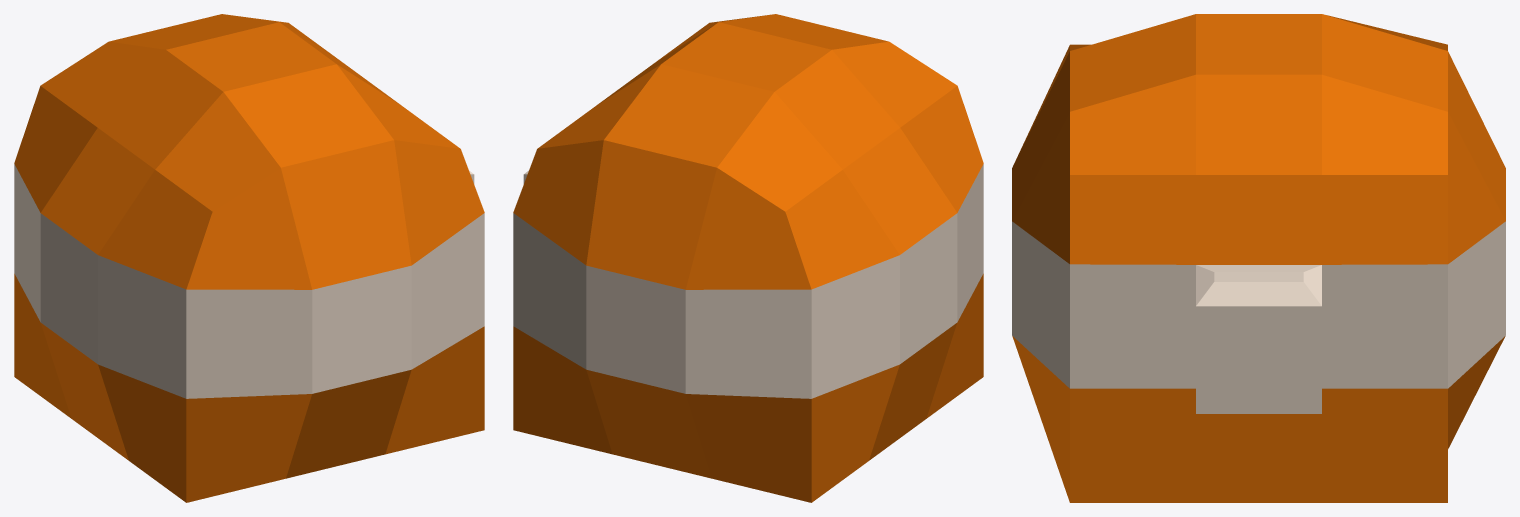
The model's file is сундук.fbx.
3 views of the same model, side by side, from view 1: azimuth 30°, elevation 25°; view 2: azimuth 150°, elevation 25°; view 3: azimuth 270°, elevation 25° (orthographic). The views are drawn at different scales.
Parts seen in each view (by area): view 1: Cube.021; view 2: Cube.021; view 3: Cube.021.
Boxes of the visible parts, bbox=[...] form: Cube.021: bbox=[14, 14, 484, 502]; Cube.021: bbox=[513, 14, 983, 502]; Cube.021: bbox=[1012, 14, 1505, 502].
Bounding box in the file's own units: 252 × 222 × 261.
